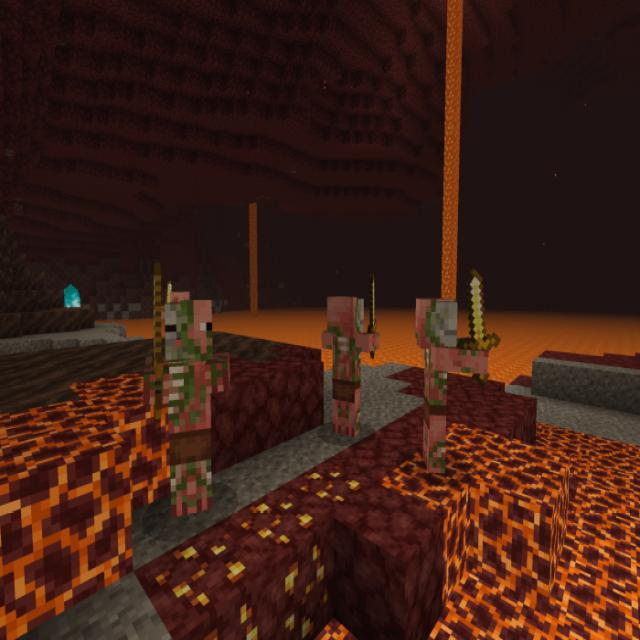Zombified Piglin: (147, 256, 232, 522), (411, 262, 502, 474), (321, 266, 382, 442)
